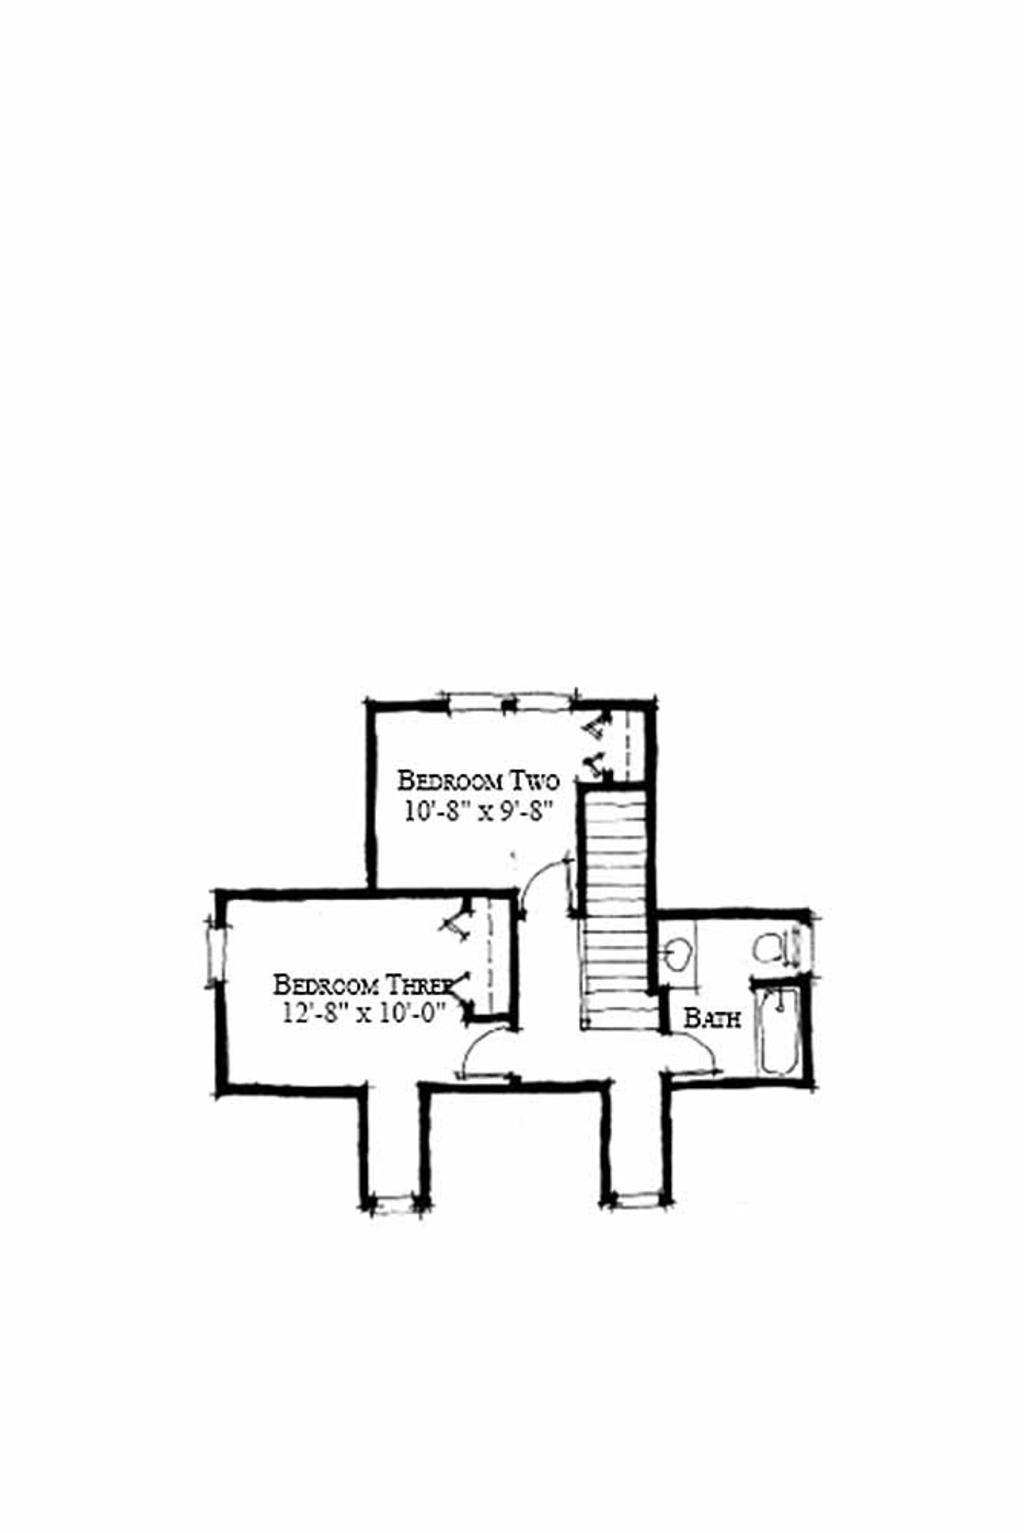door: (522, 850, 581, 925), (455, 1025, 514, 1082)
stairs: (577, 787, 672, 1037), (454, 1027, 521, 1084), (522, 859, 575, 922)
